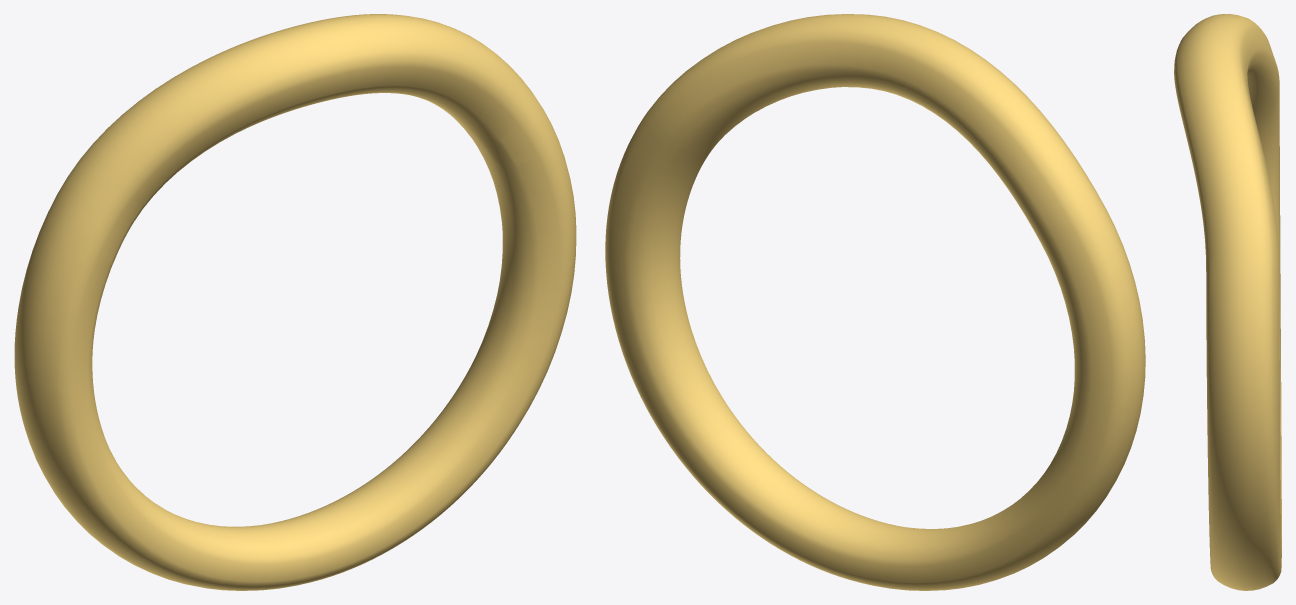
The model's file is AbiYGwb_blender.glb.
3 renders of one model, left to right at view 1: azimuth 30°, elevation 25°; view 2: azimuth 150°, elevation 25°; view 3: azimuth 270°, elevation 25°, orthographic. The views are drawn at different scales.
Parts seen in each view (by area): view 1: Abi YG wb for 3d model; view 2: Abi YG wb for 3d model; view 3: Abi YG wb for 3d model.
Boxes of the visible parts, bbox=[...] form: Abi YG wb for 3d model: bbox=[14, 14, 576, 590]; Abi YG wb for 3d model: bbox=[605, 14, 1145, 590]; Abi YG wb for 3d model: bbox=[1174, 14, 1281, 590].
Bounding box in the file's own units: 20.81 × 20.47 × 3.84.
